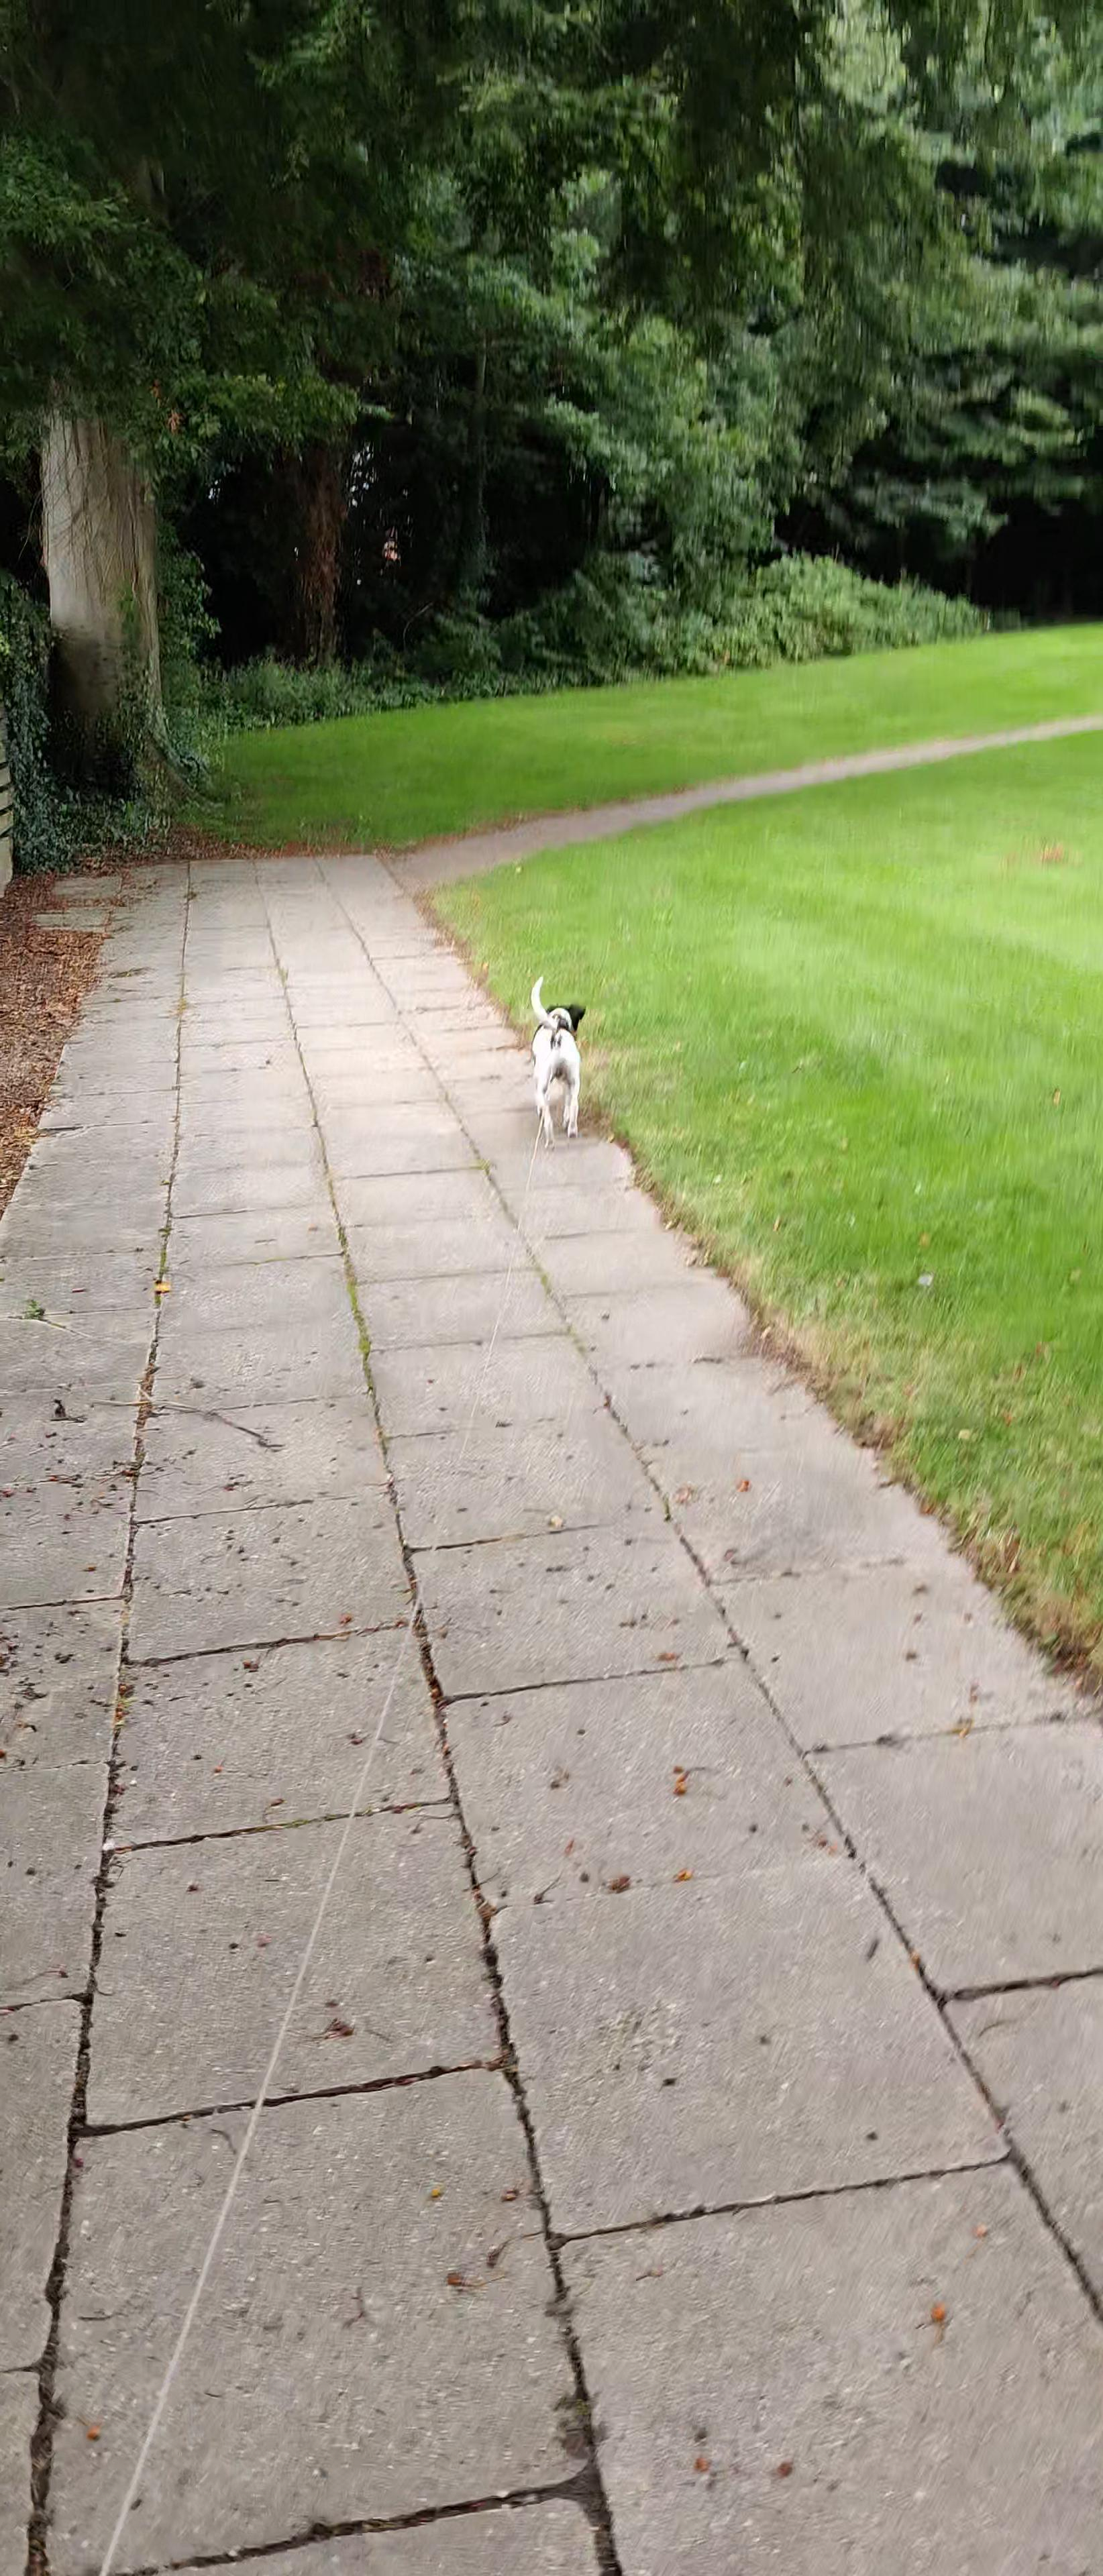Dog: (516, 969, 593, 1153)
